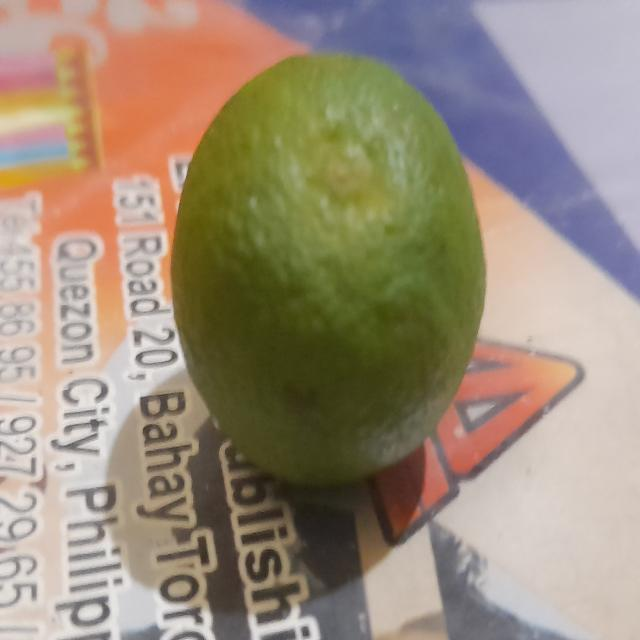heathy: (168, 47, 486, 491)
